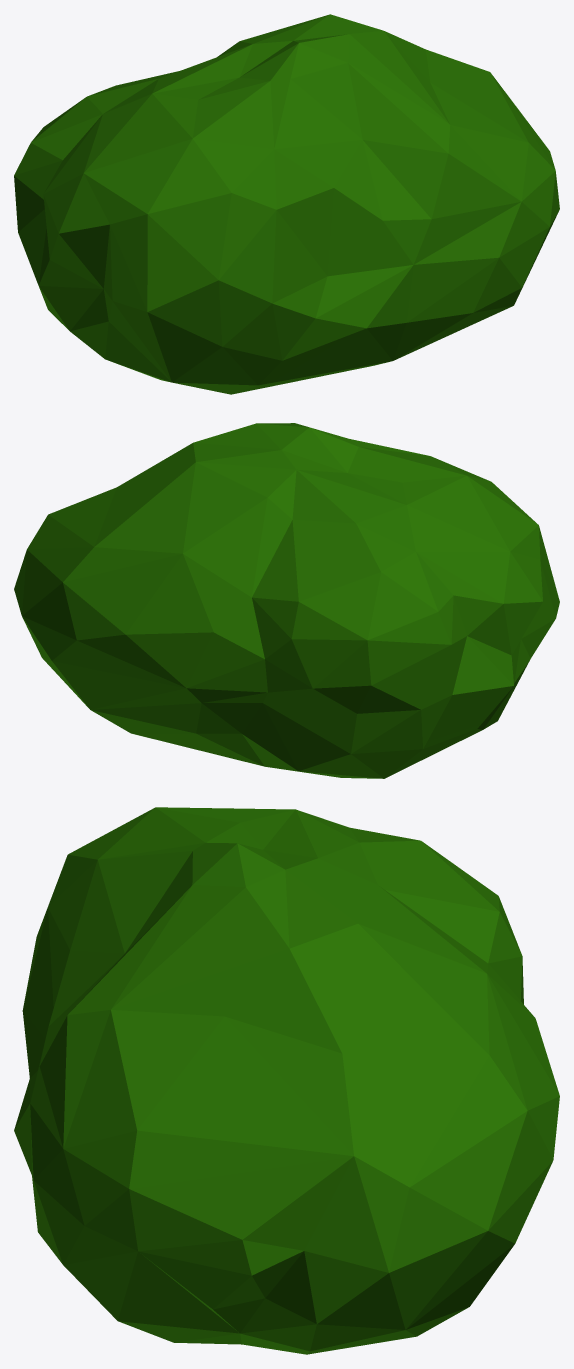
Rendered from Bush_09.glb.
The picture shows the model from 3 angles, top to bottom: view 1: azimuth 30°, elevation 25°; view 2: azimuth 150°, elevation 25°; view 3: azimuth 270°, elevation 25°; orthographic projection. The views are drawn at different scales.
Visible parts, largest first — view 1: Bush_09; view 2: Bush_09; view 3: Bush_09.
Part boxes in pixels (box(x1,y1,x2,y2)): Bush_09: box(14, 14, 559, 394); Bush_09: box(14, 423, 559, 778); Bush_09: box(14, 807, 559, 1354).
Bounding box in the file's own units: 2.04 × 1.25 × 1.43.
